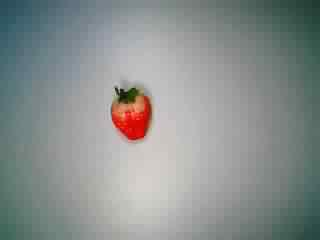strawberry: (97, 82, 165, 146)
